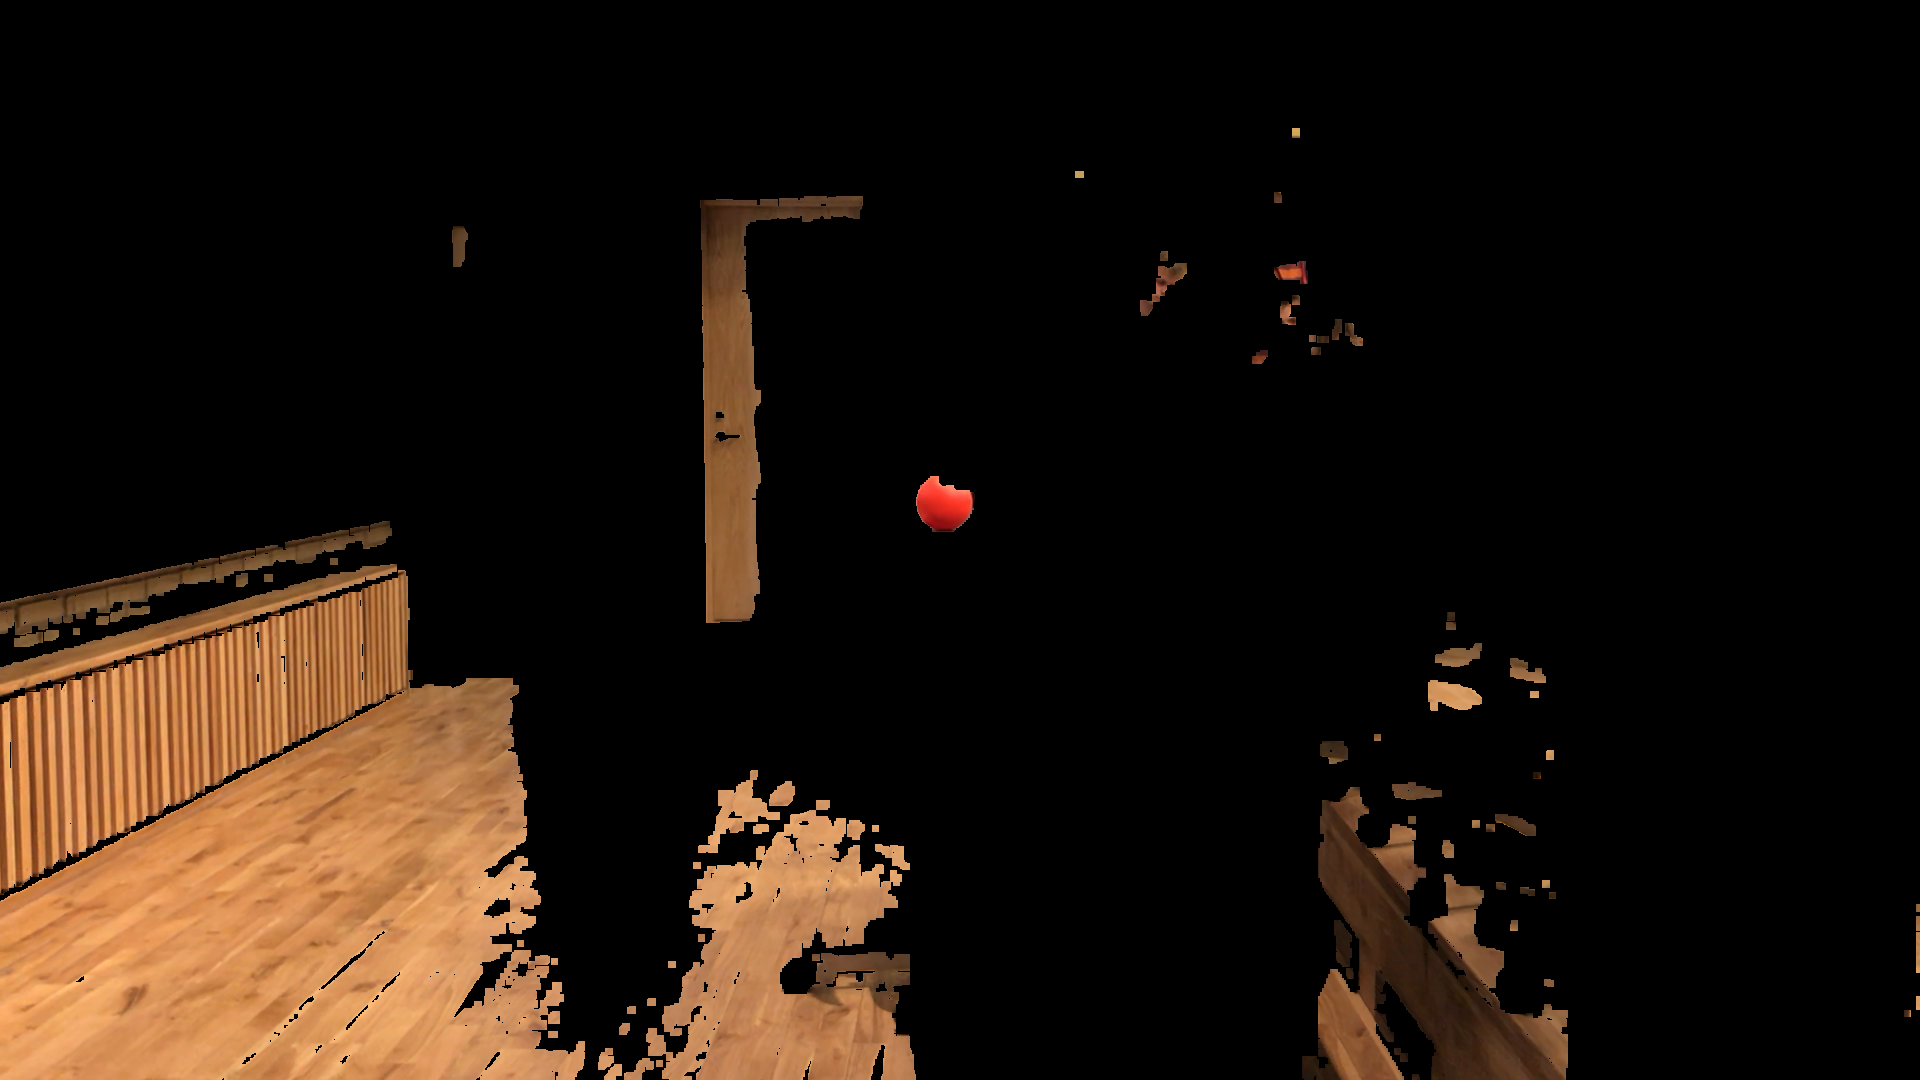Ball: (915, 469, 973, 530)
